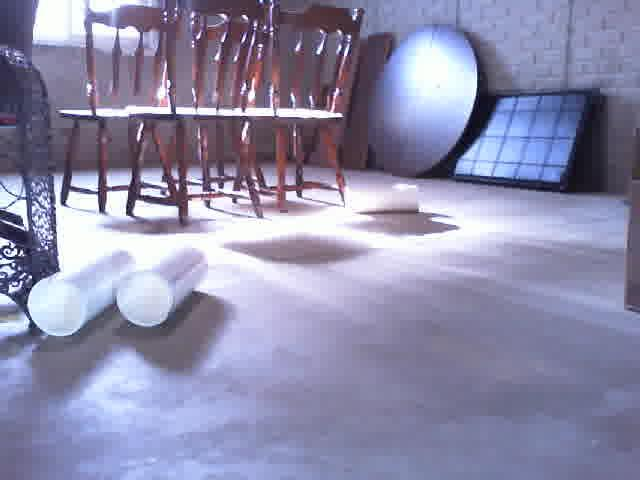coral: (25, 240, 135, 340), (113, 241, 211, 331), (345, 180, 422, 216)
